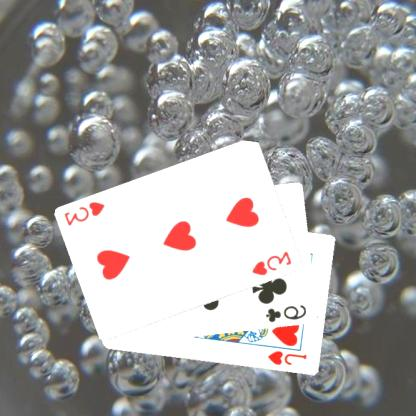3H: (251, 249, 296, 277), (63, 199, 108, 227)
6C: (265, 302, 310, 324)
JH: (267, 349, 310, 367)
